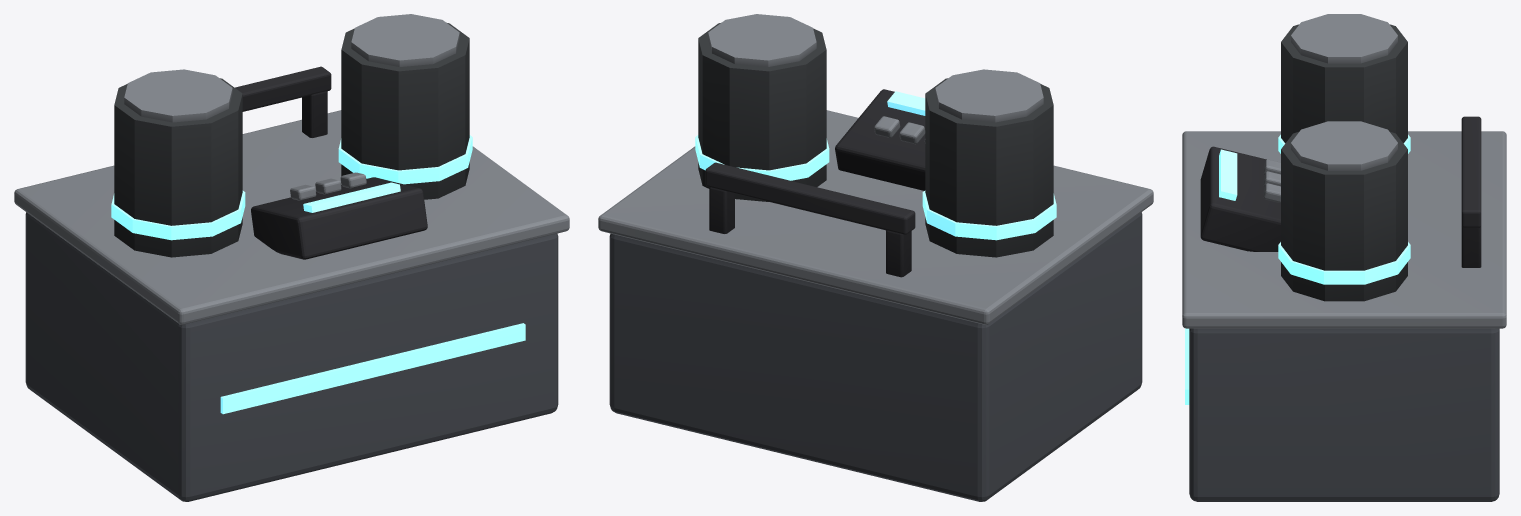
Rendered from counter_charge.glb.
3 views of the same model, side by side, from view 1: azimuth 30°, elevation 25°; view 2: azimuth 150°, elevation 25°; view 3: azimuth 270°, elevation 25° (orthographic). The views are drawn at different scales.
Parts seen in each view (by area): view 1: counter_charge; view 2: counter_charge; view 3: counter_charge.
Boxes of the visible parts, box(x1,y1,x2,y2) form: counter_charge: box(14, 14, 569, 501); counter_charge: box(598, 14, 1153, 501); counter_charge: box(1182, 14, 1506, 501).
Bounding box in the file's own units: 0.31 × 0.255 × 0.23.
